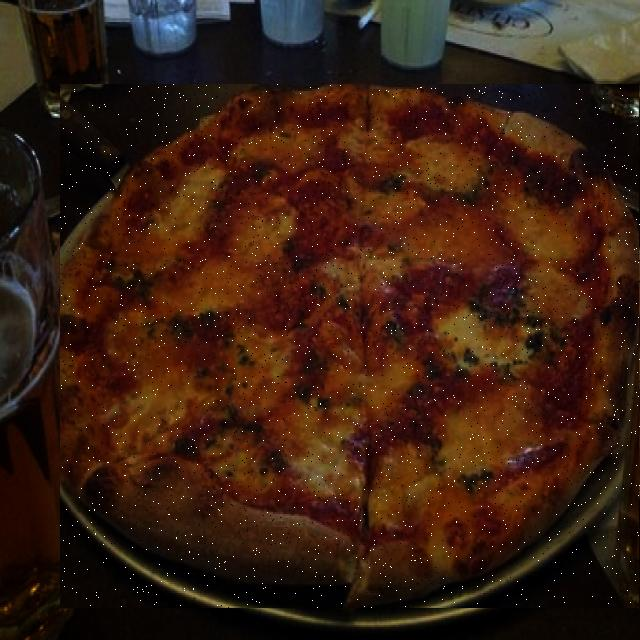Pizza: (60, 84, 640, 608)
